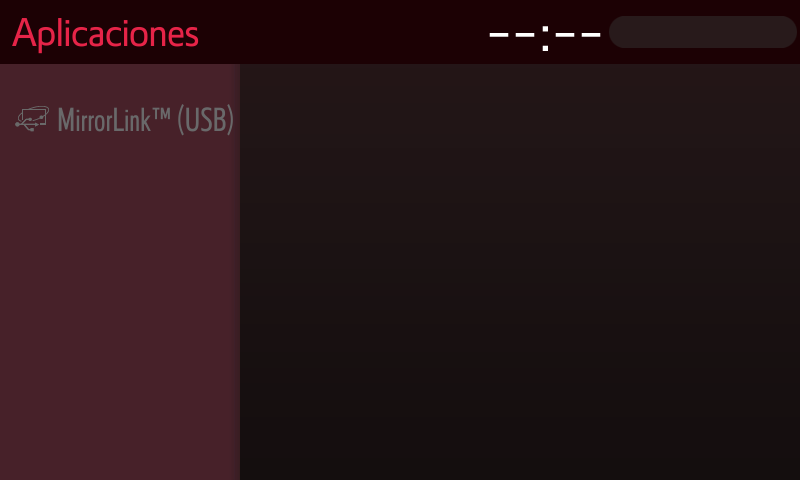untouchPart: (477, 16, 798, 53), (15, 100, 236, 139), (7, 13, 209, 47)
